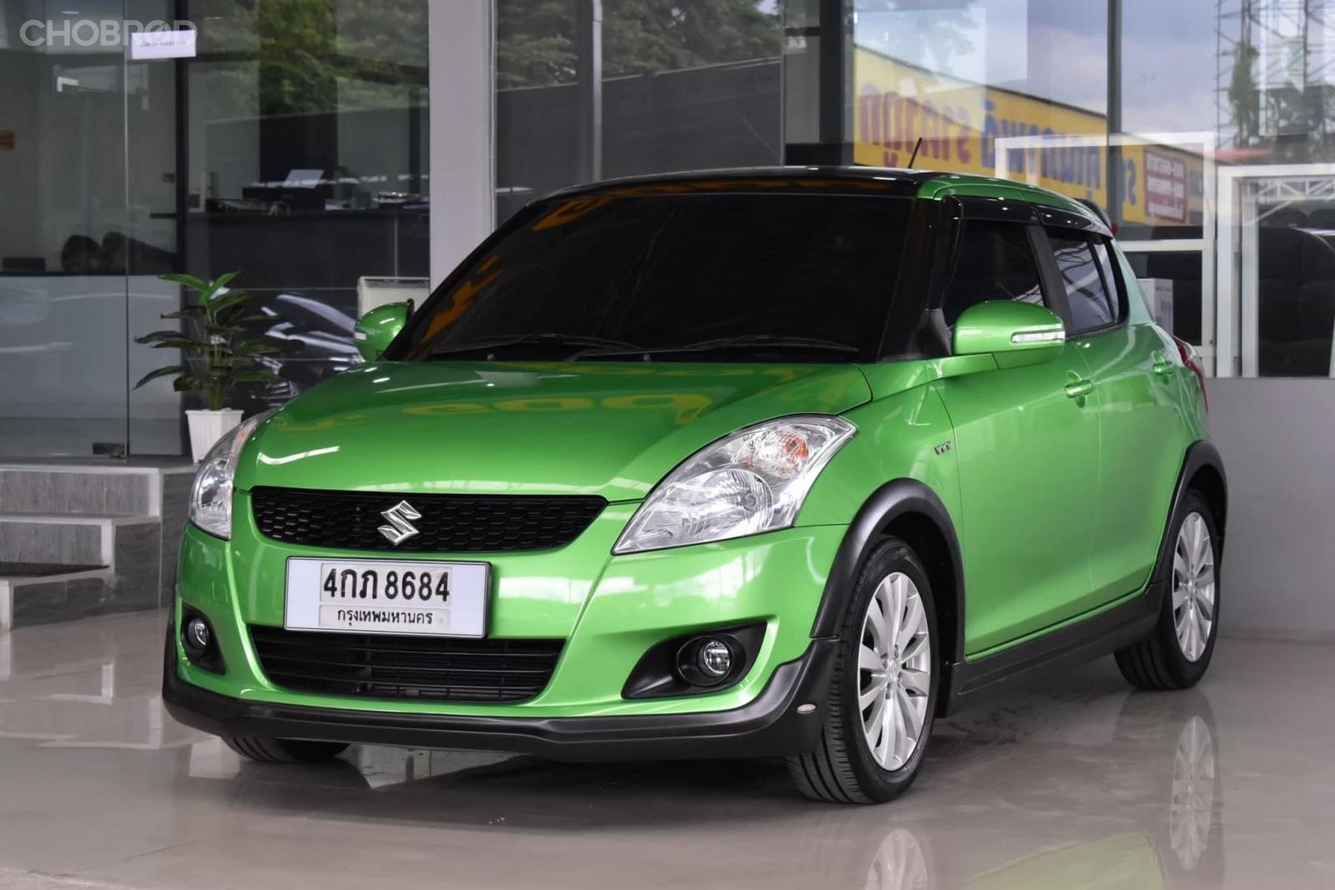license-plate: (284, 553, 495, 643)
